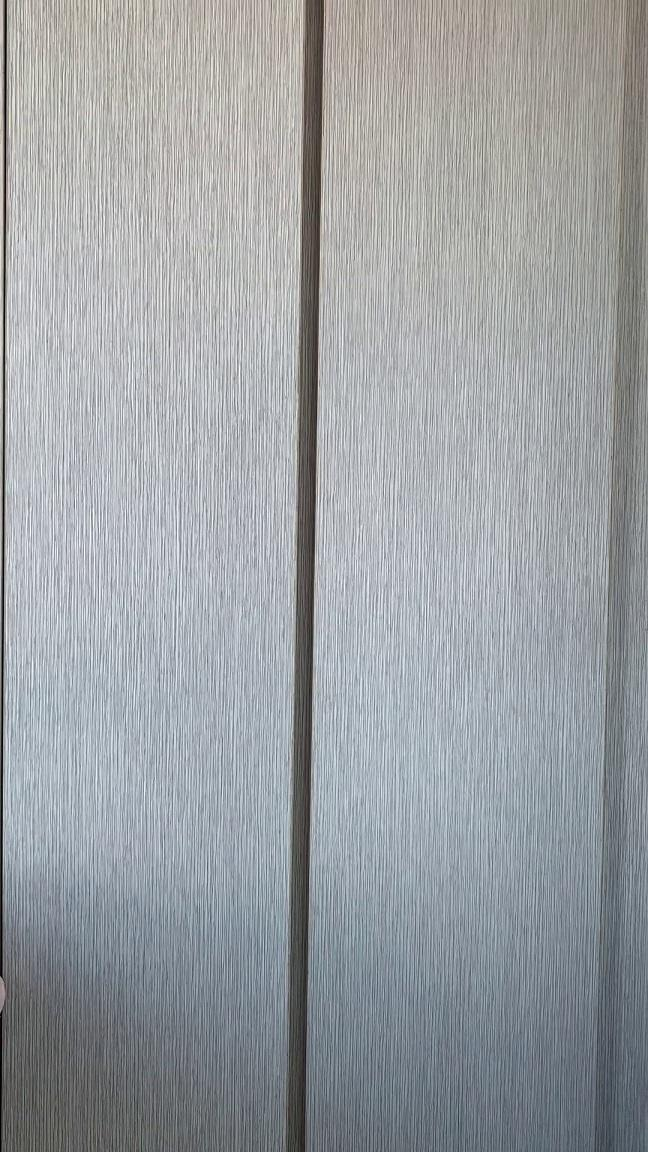Armario: (9, 9, 637, 1146)
